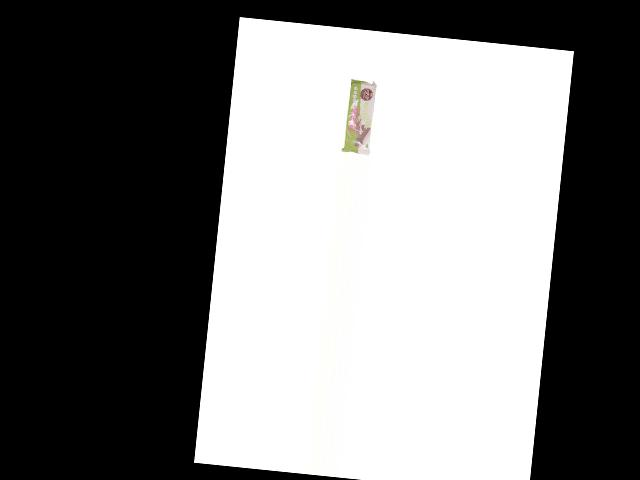chocolate: (342, 76, 380, 155)
